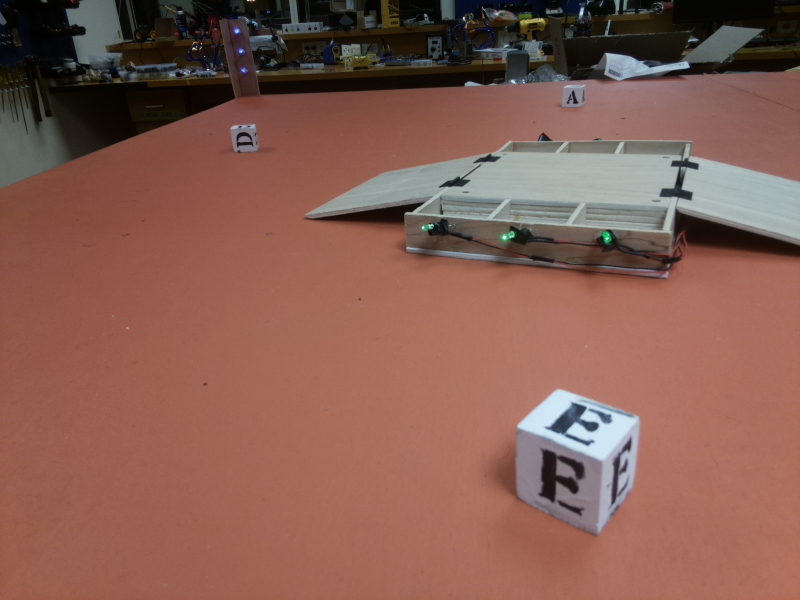blockA: (560, 82, 585, 110)
blockD: (226, 124, 258, 152)
blockE: (516, 385, 640, 542)
corner: (219, 19, 259, 96)
side: (393, 211, 675, 286), (505, 126, 692, 147)
slope: (676, 156, 800, 258), (303, 154, 493, 218)
